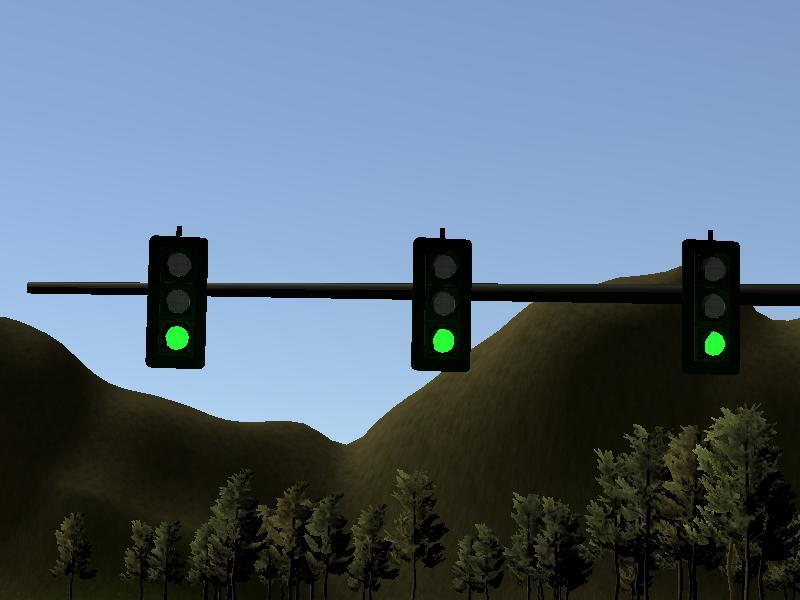Green: (412, 239, 473, 368), (150, 237, 206, 367), (686, 239, 737, 365)
